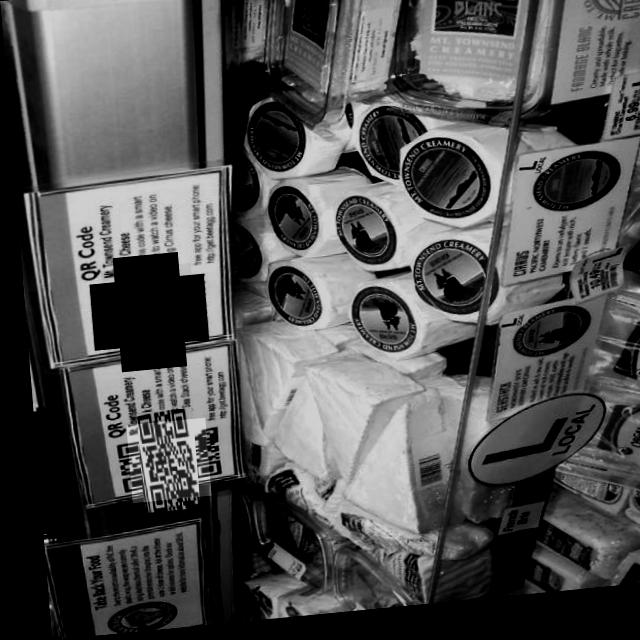qr_code: (96, 265, 192, 362), (119, 420, 203, 504)
